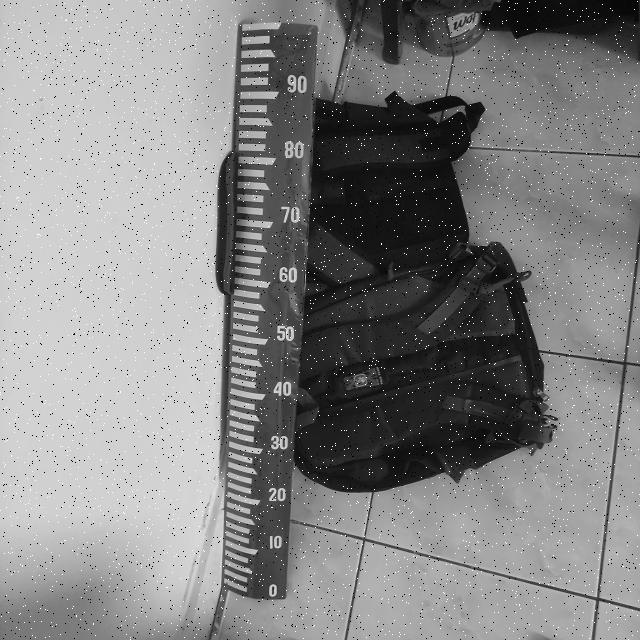10: (267, 533, 284, 551)
20: (267, 485, 287, 504)
30: (270, 434, 289, 449)
40: (272, 378, 292, 397)
50: (277, 324, 296, 343)
60: (279, 264, 299, 284)
70: (281, 204, 302, 227)
80: (284, 138, 306, 162)
90: (285, 72, 309, 95)
staff: (221, 21, 315, 602)
